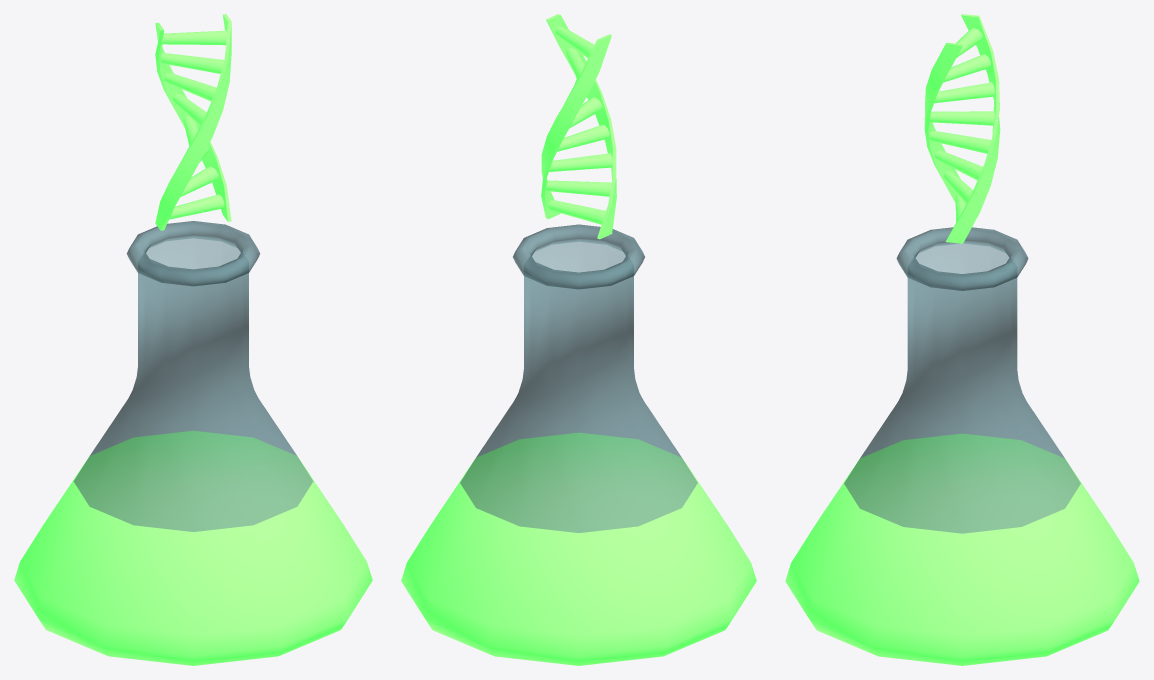
Rendered from Labor.fbx.
3 renders of one model, left to right at view 1: azimuth 30°, elevation 25°; view 2: azimuth 150°, elevation 25°; view 3: azimuth 270°, elevation 25°, orthographic.
Visible parts, largest first — view 1: Labor, Doppelhelix; view 2: Labor, Doppelhelix; view 3: Labor, Doppelhelix.
Boxes of the visible parts, x1,y1,x2,y2 form: Labor: [14, 221, 372, 665]; Doppelhelix: [155, 14, 231, 230]; Labor: [401, 224, 756, 665]; Doppelhelix: [541, 14, 616, 239]; Labor: [785, 227, 1139, 665]; Doppelhelix: [924, 14, 1000, 243].
Size of the model in its own units: 181 by 322 by 181.
